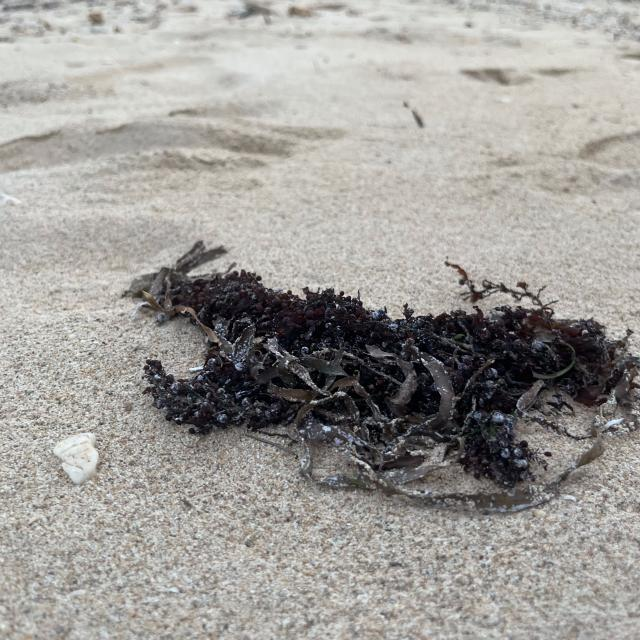seaweed: (90, 237, 640, 527)
